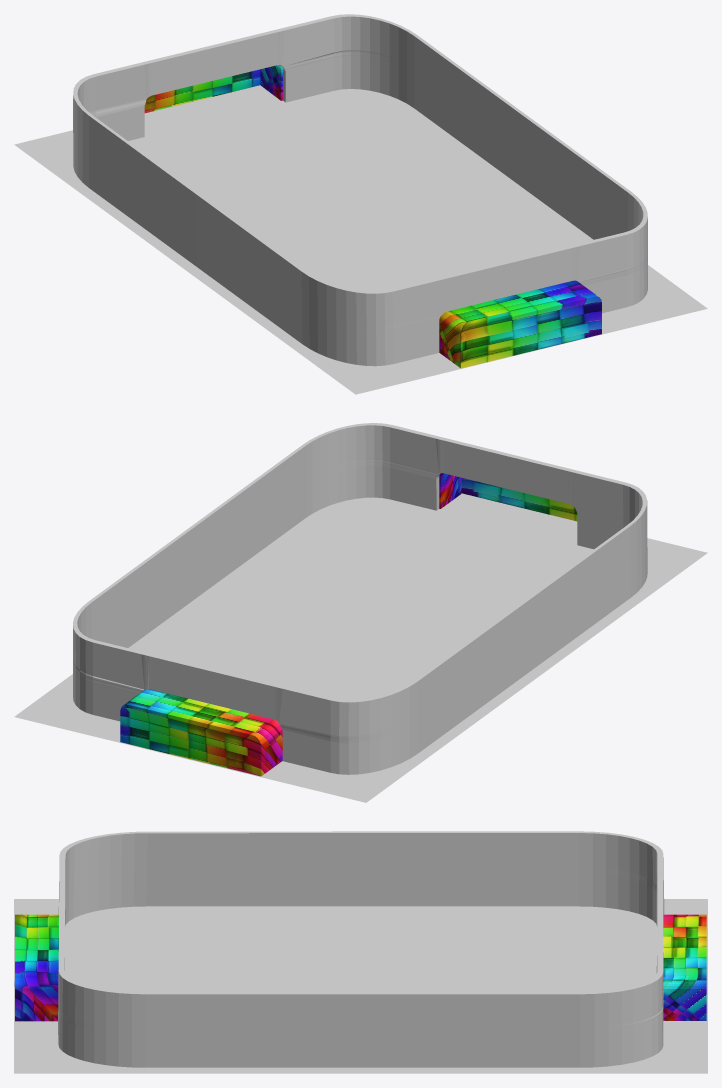
The model's file is finalGround.fbx.
3 renders of one model, top to bottom at view 1: azimuth 30°, elevation 25°; view 2: azimuth 150°, elevation 25°; view 3: azimuth 270°, elevation 25°, orthographic.
Parts seen in each view (by area): view 1: wall, Ground, Goal2, Goal1; view 2: wall, Ground, Goal1, Goal2; view 3: wall, Ground, Goal2, Goal1.
Part boxes in pixels (x1,y1,x2,y2): wall: (73, 14, 647, 366); Ground: (14, 85, 707, 394); Goal2: (439, 280, 601, 368); Goal1: (144, 65, 282, 113); wall: (73, 423, 647, 774); Ground: (14, 493, 707, 802); Goal1: (120, 689, 282, 776); Goal2: (439, 473, 577, 521); wall: (58, 831, 664, 1067); Ground: (14, 899, 707, 1073); Goal2: (14, 914, 58, 1021); Goal1: (663, 914, 706, 1020).
Bounding box in the file's own units: 1500 × 300 × 2520.
Materials: 2 (2 with a texture image).
